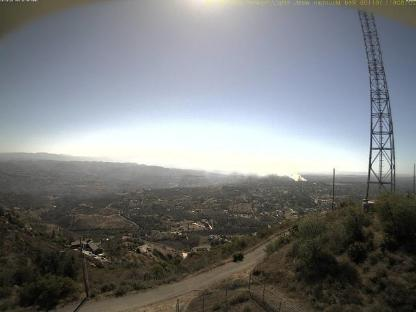smoke: (193, 152, 308, 182)
